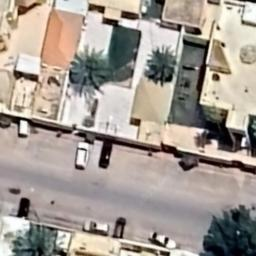SUV: (81, 218, 112, 236)
sedan: (144, 228, 180, 250), (98, 138, 112, 170), (112, 214, 128, 242), (76, 140, 88, 172), (16, 196, 32, 220), (14, 118, 32, 138)
